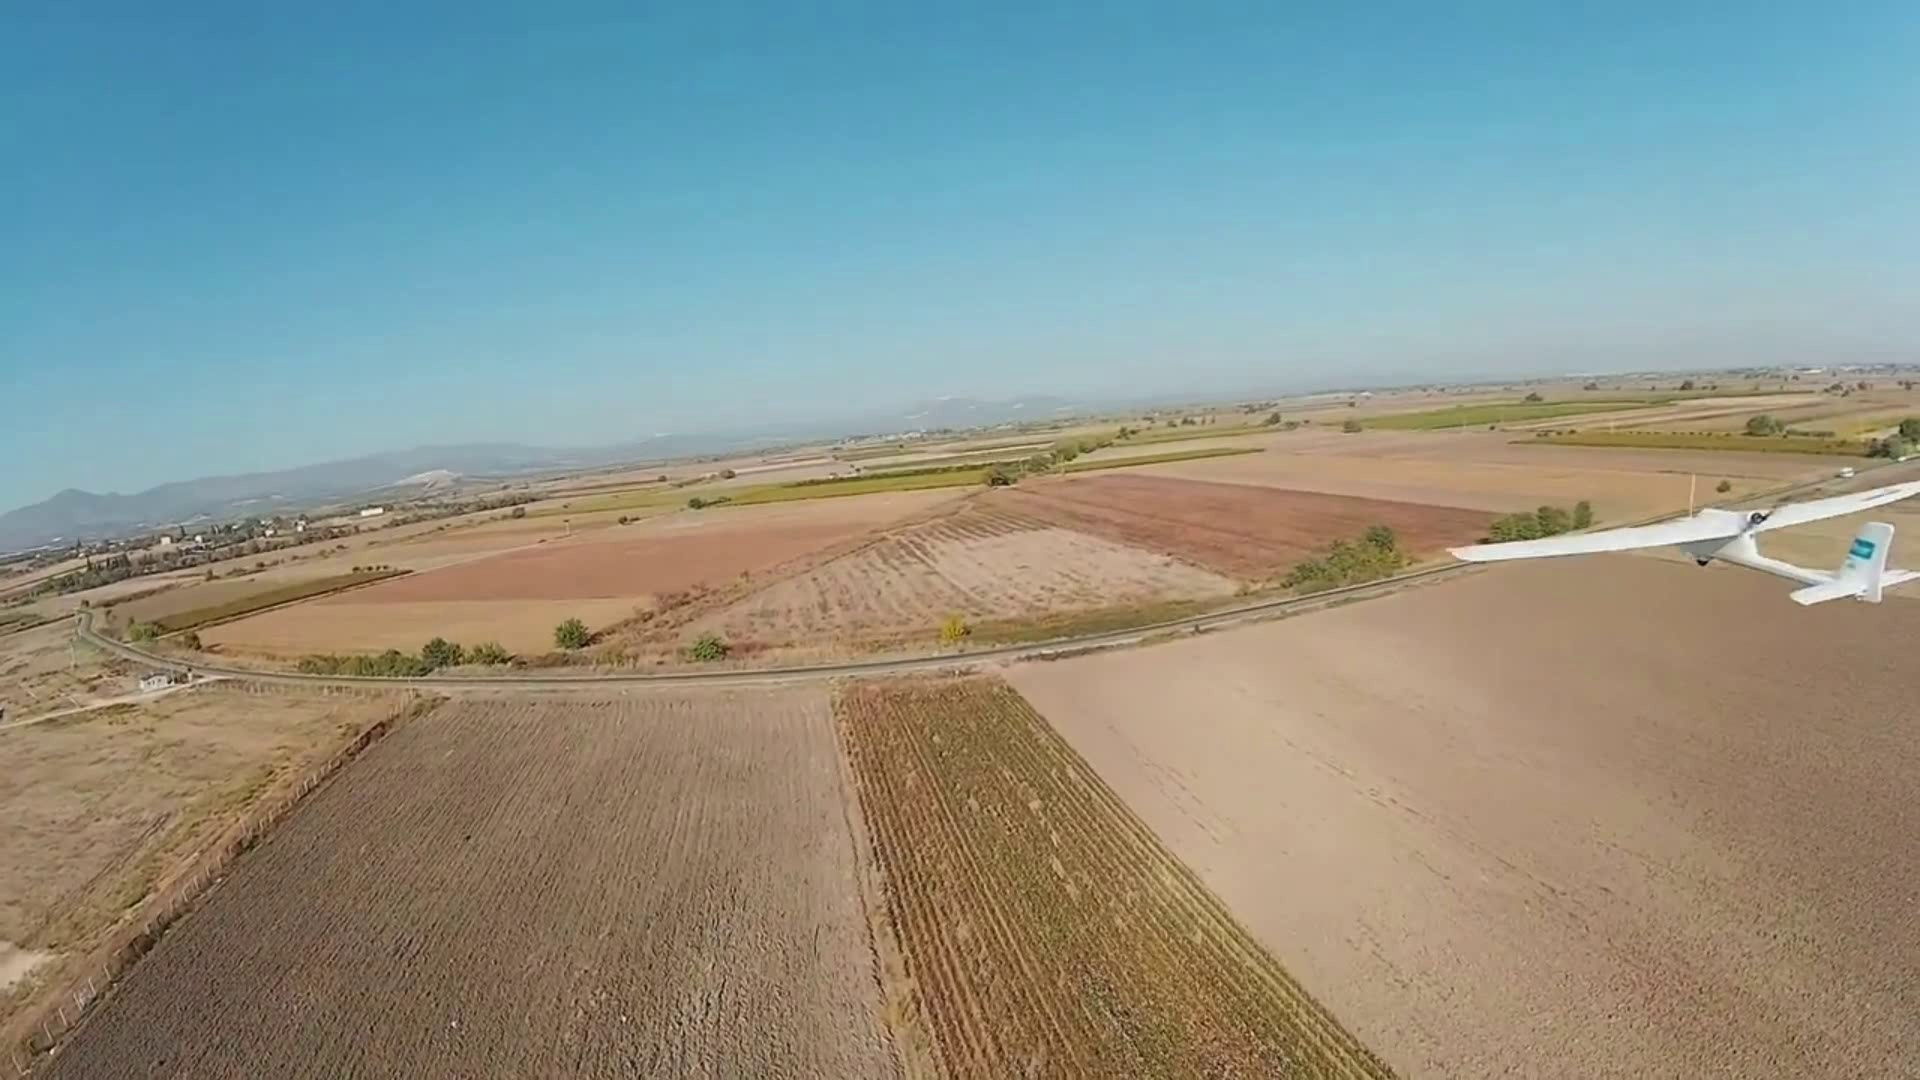airplane: (1443, 465, 1917, 593)
